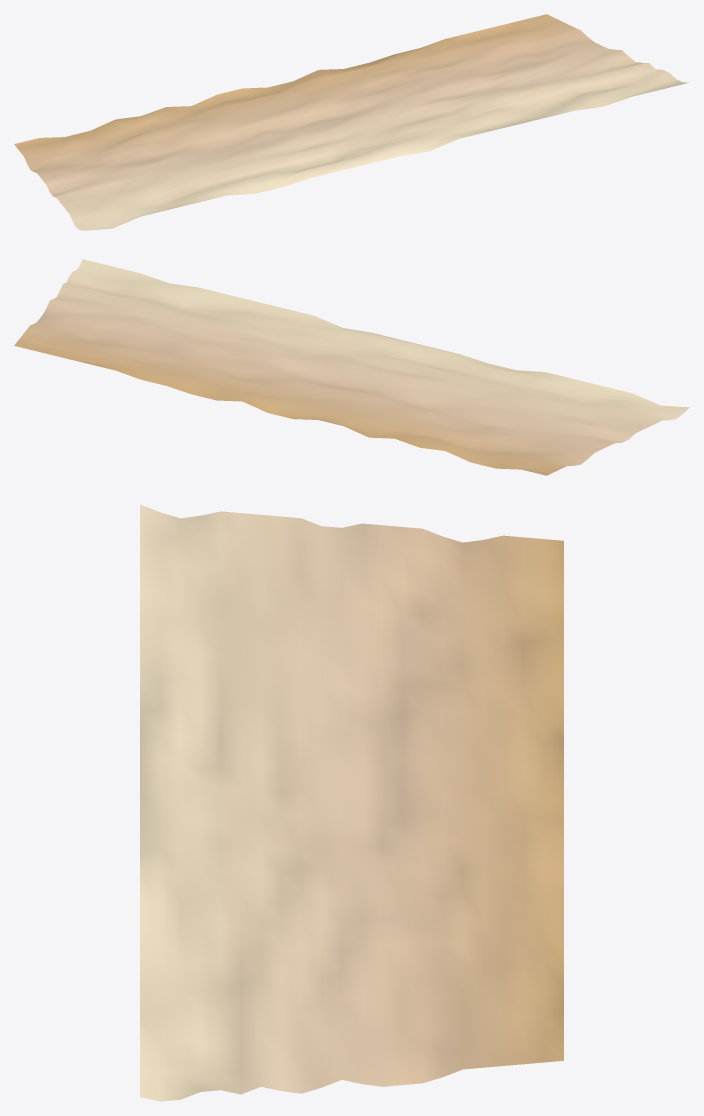
File: FBX_Fondale.fbx
The picture shows the model from 3 angles, top to bottom: view 1: azimuth 30°, elevation 25°; view 2: azimuth 150°, elevation 25°; view 3: azimuth 270°, elevation 25°; orthographic projection. The views are drawn at different scales.
Visible parts, largest first — view 1: pareti_geo; view 2: pareti_geo; view 3: pareti_geo.
Boxes of the visible parts, x1,y1,x2,y2 form: pareti_geo: (14, 14, 688, 230); pareti_geo: (14, 259, 689, 475); pareti_geo: (140, 504, 563, 1101).
Bounding box in the file's own units: 995 × 8.18 × 300.
1 material, 1 textured.
